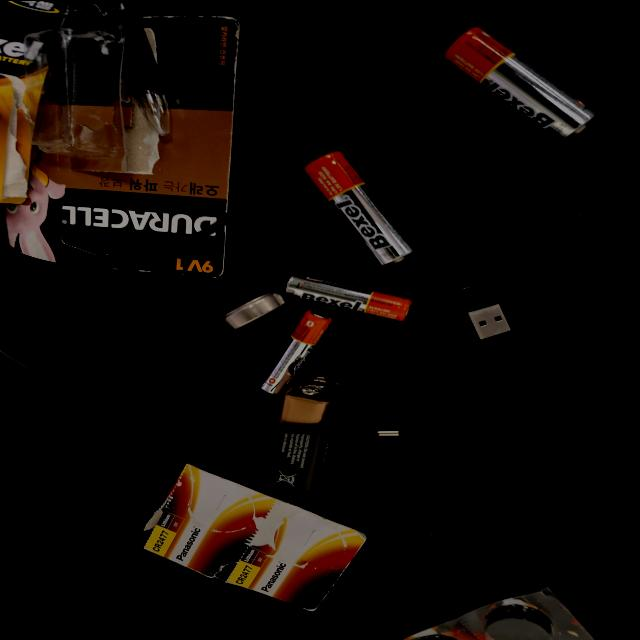9V: (200, 361, 352, 418)
AA: (502, 388, 640, 472)
AAA: (328, 354, 442, 408), (426, 374, 490, 469)
COIN: (413, 326, 468, 374)
